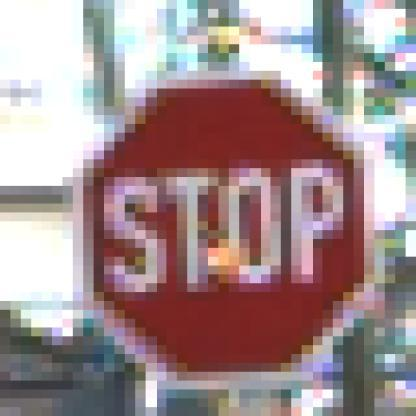Stop: (80, 79, 373, 386)
